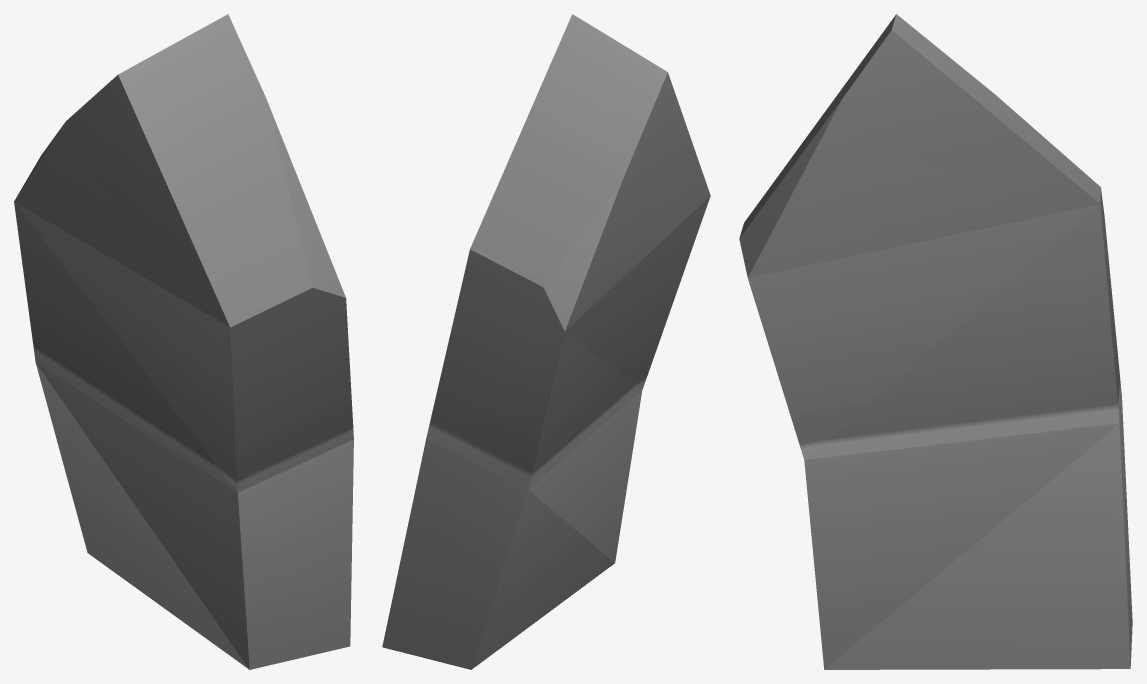
The model's file is ea_grave_stone_mini_01c_pre__9__lev1.glb.
The picture shows the model from 3 angles, left to right: view 1: azimuth 30°, elevation 25°; view 2: azimuth 150°, elevation 25°; view 3: azimuth 270°, elevation 25°; orthographic projection. The views are drawn at different scales.
Parts seen in each view (by area): view 1: ea_grave_stone_mini_01c_pre__9__lev1; view 2: ea_grave_stone_mini_01c_pre__9__lev1; view 3: ea_grave_stone_mini_01c_pre__9__lev1.
Part boxes in pixels (x1,y1,x2,y2): ea_grave_stone_mini_01c_pre__9__lev1: [14, 14, 353, 669]; ea_grave_stone_mini_01c_pre__9__lev1: [382, 14, 710, 669]; ea_grave_stone_mini_01c_pre__9__lev1: [739, 14, 1132, 669].
Bounding box in the file's own units: 0.2272 × 0.6991 × 0.4155.
1 material, 1 textured.
